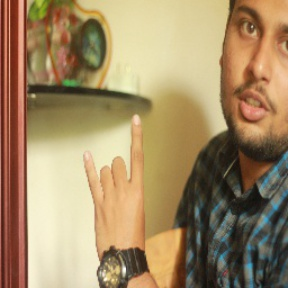V: (80, 112, 156, 263)
